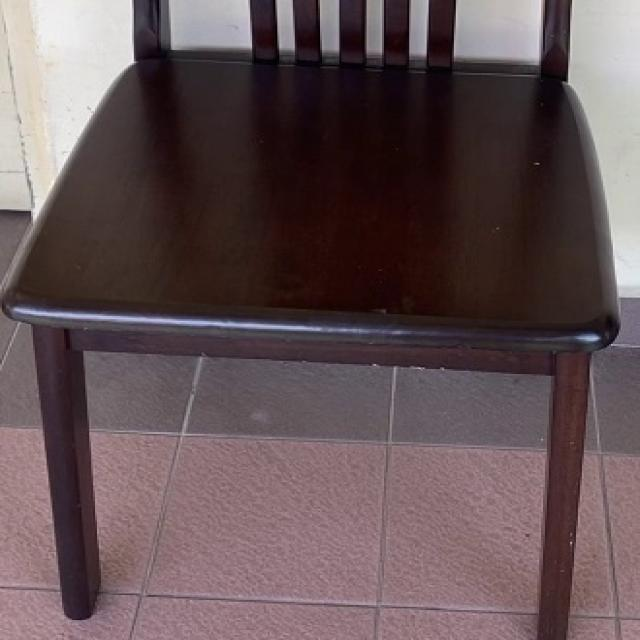chair: (1, 1, 626, 640)
